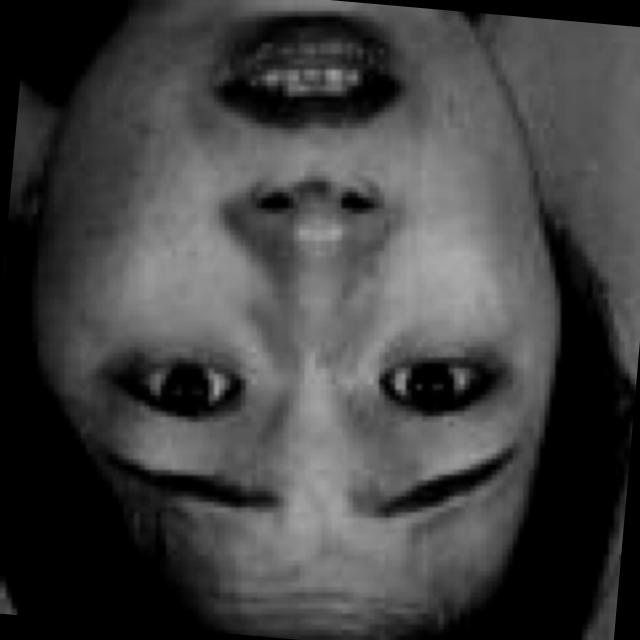fear: (30, 0, 601, 607)
